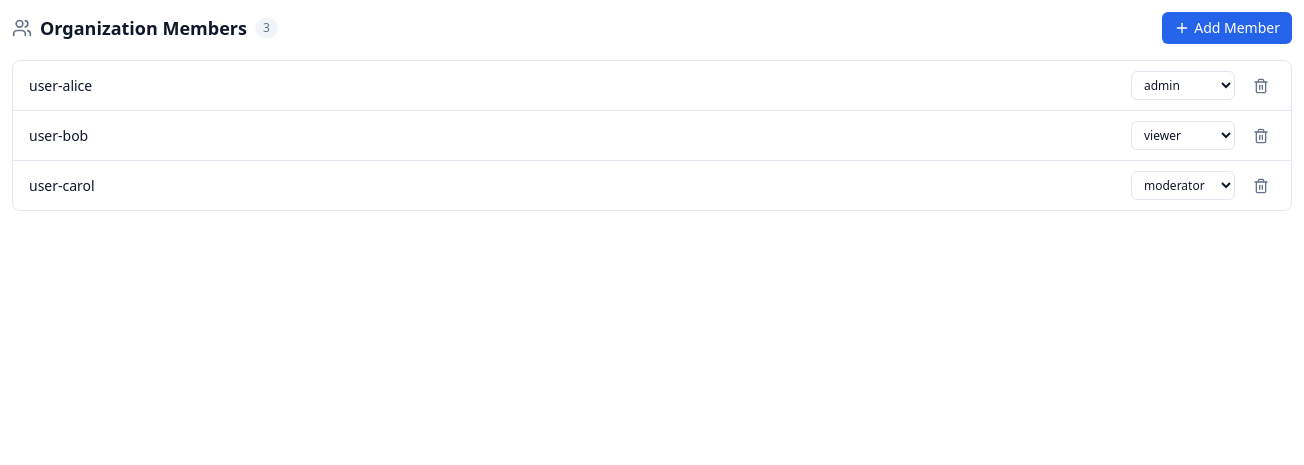
it: MembershipManager › hides add form after successful add
Click the button with test id "member-add-toggle" at (1227, 28), box [1162, 12, 1292, 44]
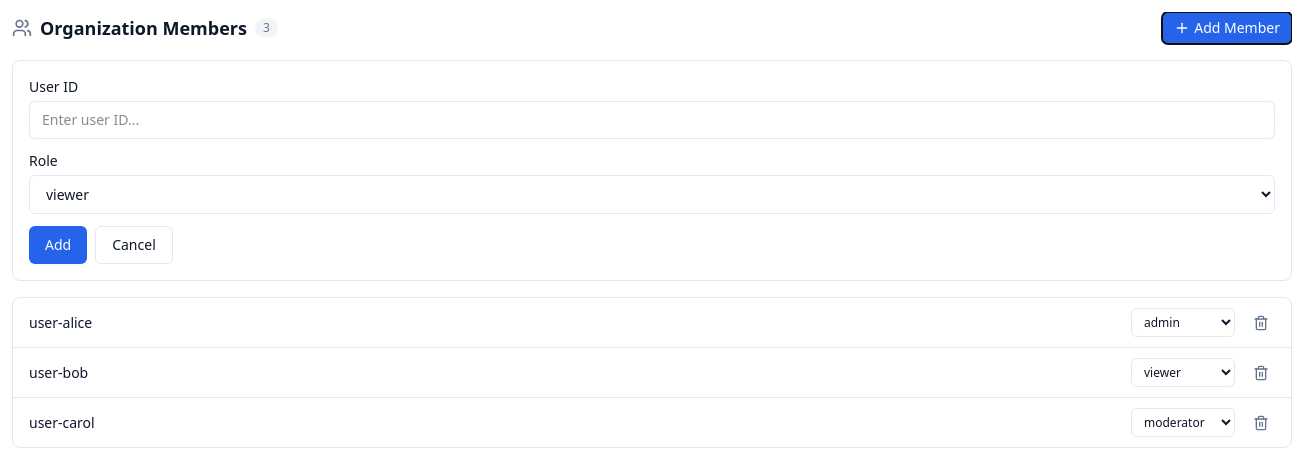
Type "user-dave" into the field with test id "member-user-input" at (652, 120), box [29, 101, 1275, 139]
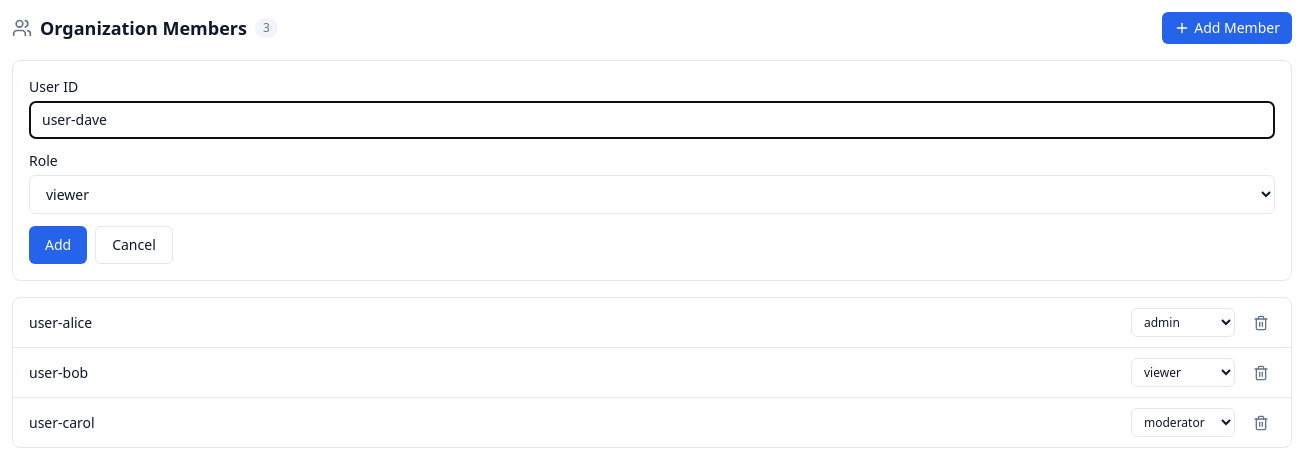
Click the button with test id "member-save-btn" at (58, 245), box [29, 226, 87, 264]
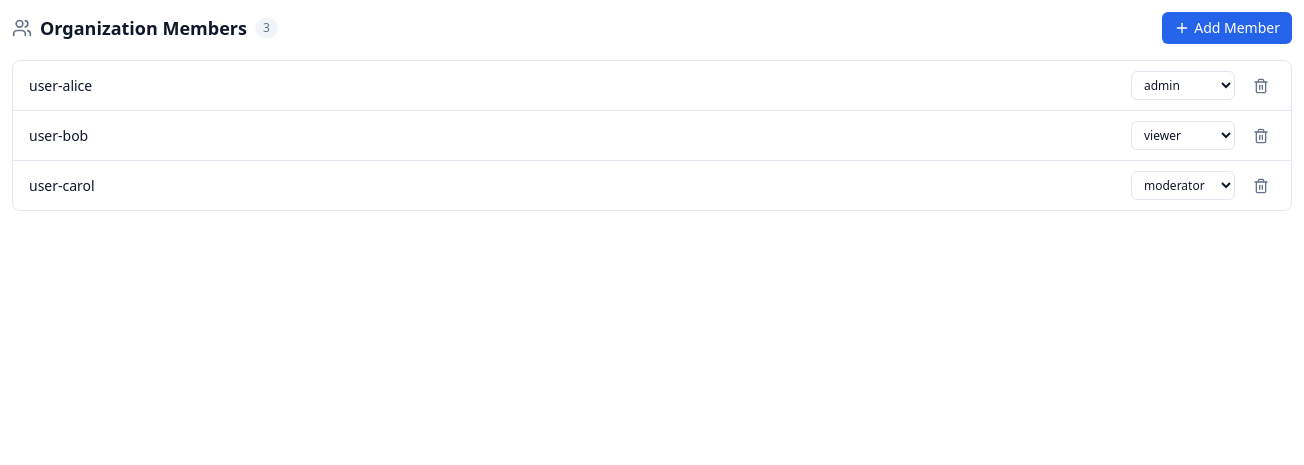
Now the form with test id "member-add-form" is gone
